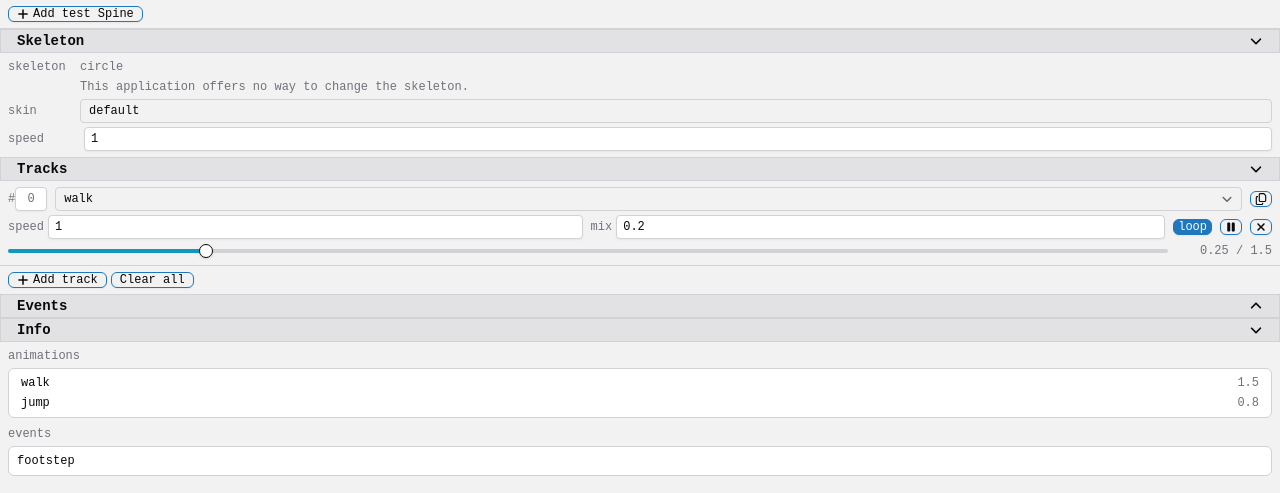
Test: SpineSection › lets a test tab choose a skeleton the application could not change
Click the button "Add test Spine" at (75, 14), box 8,6 -> 143,22
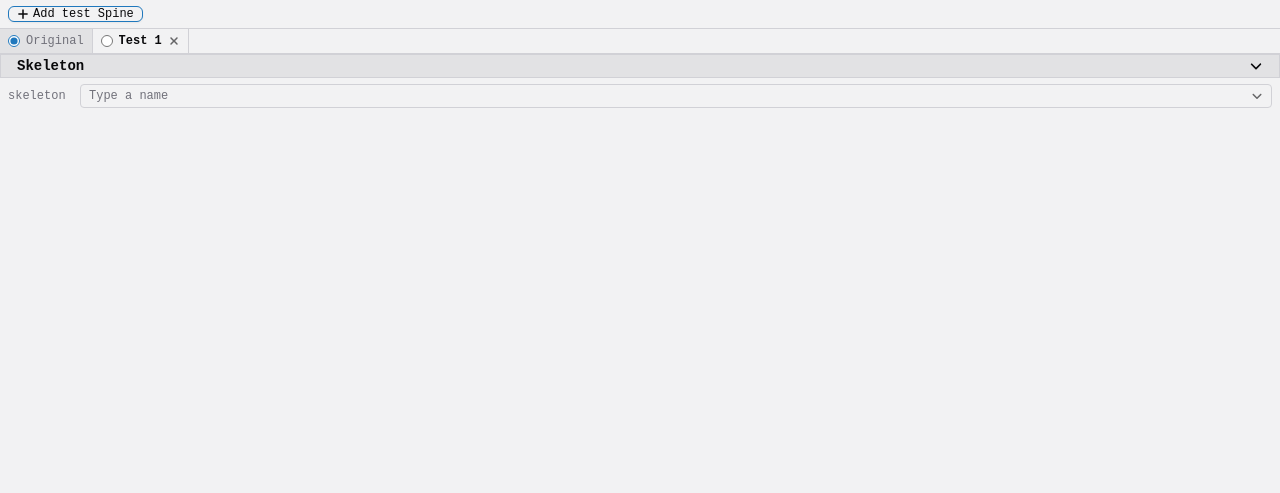
expect the button named "Change which skeleton this node carries" is shown: met, box 80,84 -> 1272,108
